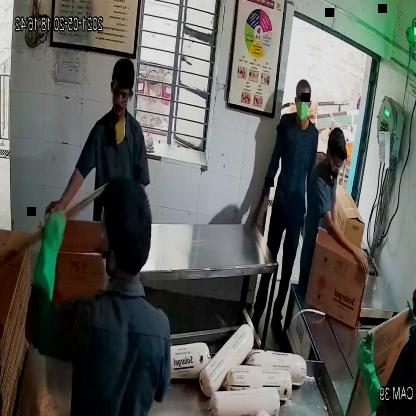goggles: (324, 150, 346, 176)
no_goggles: (292, 93, 314, 107)
